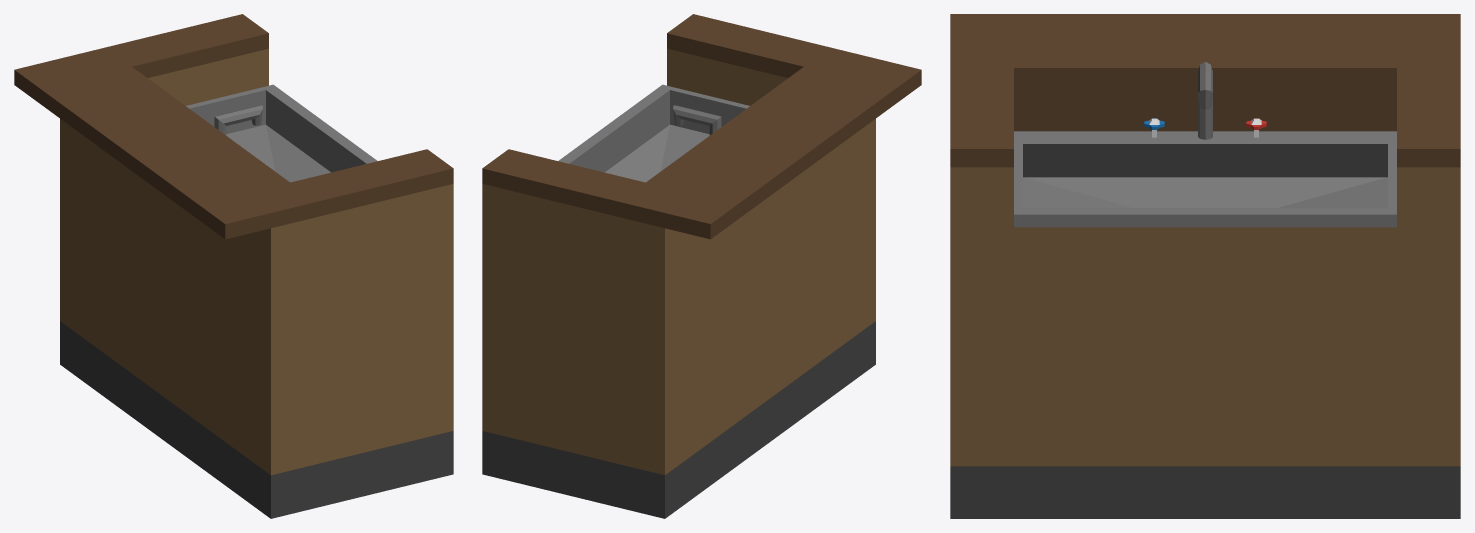
Rendered from Bar Counter Sink.fbx.
3 views of the same model, side by side, from view 1: azimuth 30°, elevation 25°; view 2: azimuth 150°, elevation 25°; view 3: azimuth 270°, elevation 25° (orthographic). The views are drawn at different scales.
Visible parts, largest first — view 1: Bar Counter Sink; view 2: Bar Counter Sink; view 3: Bar Counter Sink.
Boxes of the visible parts, bbox=[...] form: Bar Counter Sink: bbox=[14, 14, 453, 518]; Bar Counter Sink: bbox=[482, 14, 921, 518]; Bar Counter Sink: bbox=[950, 14, 1460, 518].
Size of the model in its own units: 637 by 818 by 1000.
